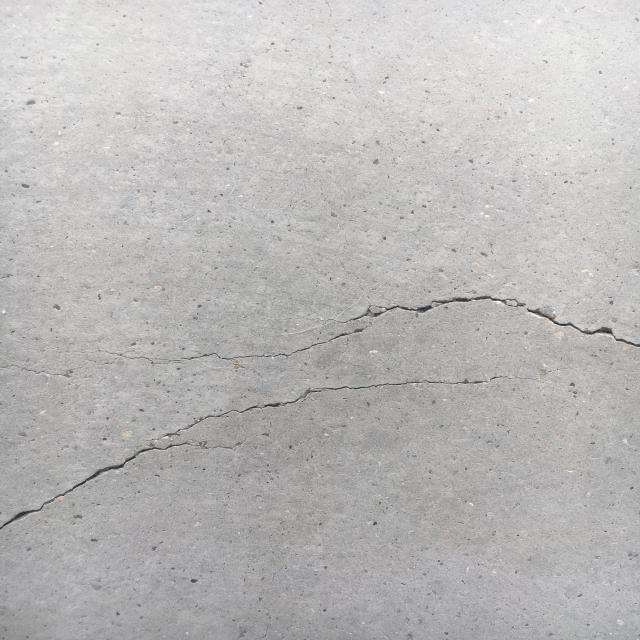Rachadura: (0, 375, 548, 536), (317, 294, 640, 348), (86, 326, 372, 365)
